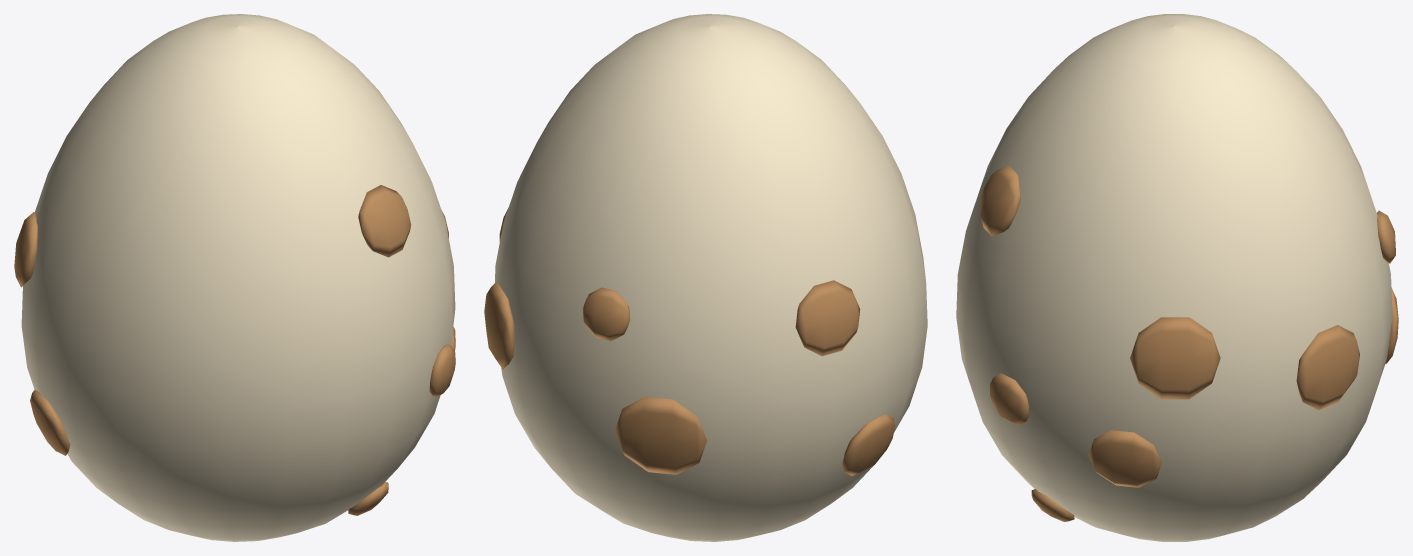
File: EggCommon.glb
3 views of the same model, side by side, from view 1: azimuth 30°, elevation 25°; view 2: azimuth 150°, elevation 25°; view 3: azimuth 270°, elevation 25° (orthographic).
Visible parts, largest first — view 1: Body; view 2: Body; view 3: Body.
Boxes of the visible parts, x1,y1,x2,y2 form: Body: (14, 14, 455, 541); Body: (484, 14, 927, 541); Body: (956, 14, 1398, 541).
Size of the model in its own units: 1.95 by 2.4 by 1.94.
1 material, 1 textured.
